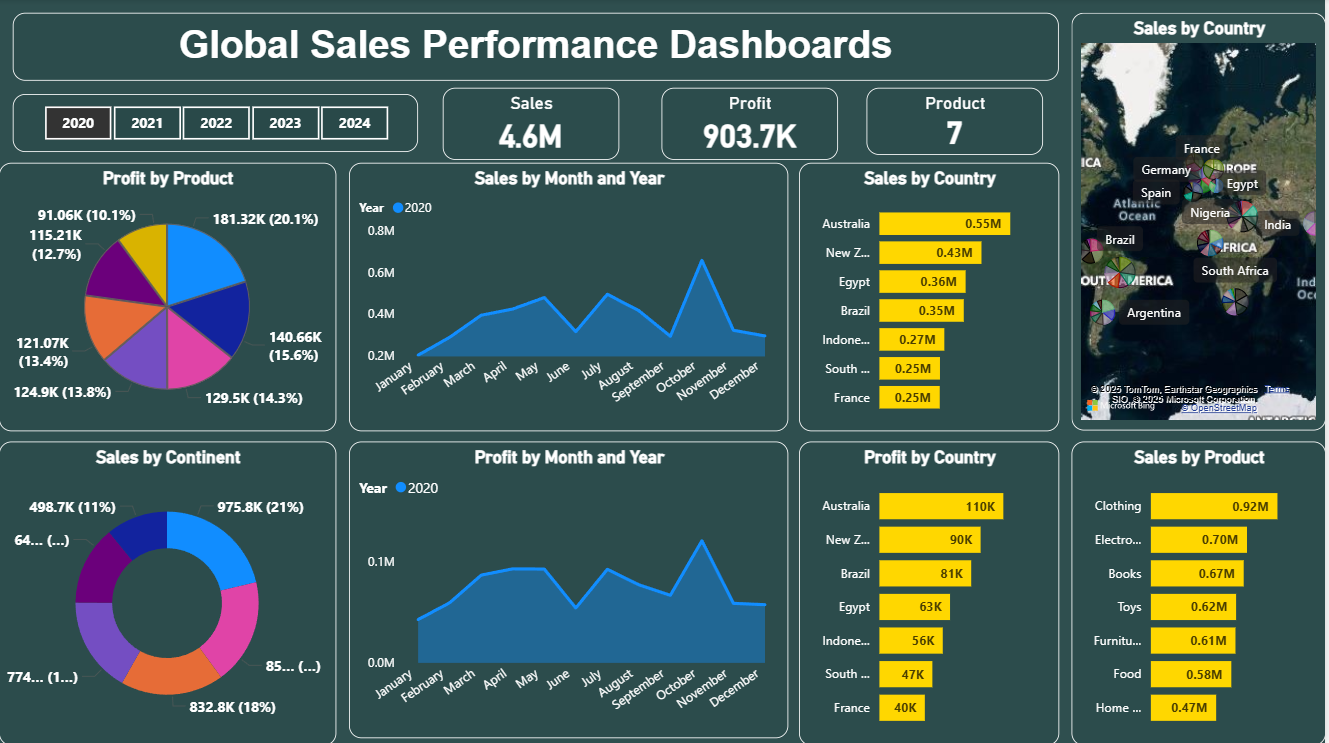

What the dashboard file says about the page in this screenshot:
{"tool":"powerbi","page":{"name":"Page 1","canvas":[1280,720],"ordinal":0},"visuals":[{"type":"clusteredBarChart","title":"Sales by Product","fields":{"Y":["Sum(global_sales_data.Sales)"],"Category":["global_sales_data.Product"]},"box":[1034.7,426.8,245.6,293.7],"z":0},{"type":"map","title":"Sales by Country","fields":{"Category":["global_sales_data.Country","global_sales_data.Continent"],"Size":["Sum(global_sales_data.Sales)"],"Series":["global_sales_data.Profit"]},"box":[1034.7,13.7,245.6,403.4],"z":1000},{"type":"clusteredBarChart","title":"Profit by Country","fields":{"Y":["Sum(global_sales_data.Profit)"],"Category":["global_sales_data.Country"]},"box":[772.6,426.8,251.1,293.7],"z":2000},{"type":"donutChart","title":"Sales by Continent","fields":{"Category":["global_sales_data.Continent"],"Y":["Sum(global_sales_data.Sales)"]},"box":[0,426.8,325.2,293.7],"z":3000},{"type":"stackedAreaChart","title":" Sales by Month and Year","fields":{"Y":["Sum(global_sales_data.Sales)"],"Category":["global_sales_data.Date.Variation.Date Hierarchy.Month"],"Series":["global_sales_data.Date.Variation.Date Hierarchy.Year"]},"box":[337.6,157.8,424,259.3],"z":4000},{"type":"stackedAreaChart","title":"Profit by Month and Year","fields":{"Category":["global_sales_data.Date.Variation.Date Hierarchy.Month"],"Series":["global_sales_data.Date.Variation.Date Hierarchy.Year"],"Y":["Sum(global_sales_data.Profit)"]},"box":[337.6,426.8,424,286.8],"z":5000},{"type":"pieChart","title":"Profit by Product","fields":{"Category":["global_sales_data.Product"],"Y":["Sum(global_sales_data.Profit)"]},"box":[0,157.8,325.2,259.3],"z":6000},{"type":"clusteredBarChart","title":"Sales by Country","fields":{"Y":["Sum(global_sales_data.Sales)"],"Category":["global_sales_data.Country"]},"box":[772.6,157.8,251.1,259.3],"z":7000},{"type":"textbox","box":[13.7,13.7,1010,65.9],"z":8000},{"type":"slicer","fields":{"Values":["global_sales_data.Date.Variation.Date Hierarchy.Year"]},"box":[13.7,91.9,391.1,56.3],"z":9000},{"type":"card","title":"Sales","fields":{"Values":["Sum(global_sales_data.Sales)"]},"box":[428.1,85.1,170.2,70],"z":10000},{"type":"card","title":"Profit","fields":{"Values":["Sum(global_sales_data.Profit)"]},"box":[639.5,85.1,170.2,70],"z":11000},{"type":"card","title":"Product","fields":{"Values":["Count(global_sales_data.Product)"]},"box":[837.1,85.1,170.2,64.5],"z":12000}]}

Visuals, with their boxes in screenshot pixels (x1, y1, x2, y2), scaled from the page's 1280x720 canvas onto the 1329x743 screenshot:
"Sales by Product" clusteredBarChart: (1074,440,1328,742)
"Sales by Country" map: (1074,14,1328,430)
"Profit by Country" clusteredBarChart: (802,440,1063,742)
"Sales by Continent" donutChart: (0,440,338,742)
" Sales by Month and Year" stackedAreaChart: (351,163,791,430)
"Profit by Month and Year" stackedAreaChart: (351,440,791,736)
"Profit by Product" pieChart: (0,163,338,430)
"Sales by Country" clusteredBarChart: (802,163,1063,430)
textbox: (14,14,1063,82)
slicer - global_sales_data.Date.Variation.Date Hierarchy.Year: (14,95,420,153)
"Sales" card: (444,88,621,160)
"Profit" card: (664,88,841,160)
"Product" card: (869,88,1046,154)
